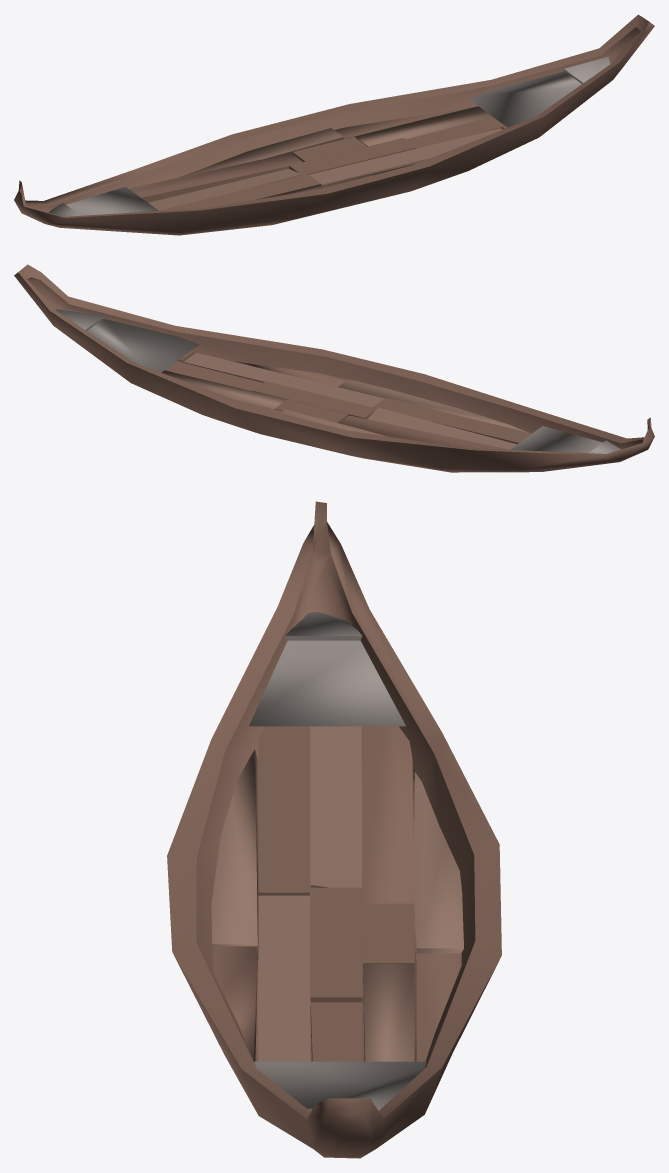
The model's file is boat.glb.
3 views of the same model, one above another, from view 1: azimuth 30°, elevation 25°; view 2: azimuth 150°, elevation 25°; view 3: azimuth 270°, elevation 25° (orthographic). The views are drawn at different scales.
Visible parts, largest first — view 1: Model_Boat002.005; view 2: Model_Boat002.005; view 3: Model_Boat002.005.
Part boxes in pixels (bbox=[...]): Model_Boat002.005: bbox=[14, 14, 654, 235]; Model_Boat002.005: bbox=[14, 264, 654, 472]; Model_Boat002.005: bbox=[167, 501, 501, 1158].
Size of the model in its own units: 3.16 by 0.4624 by 0.7316.
